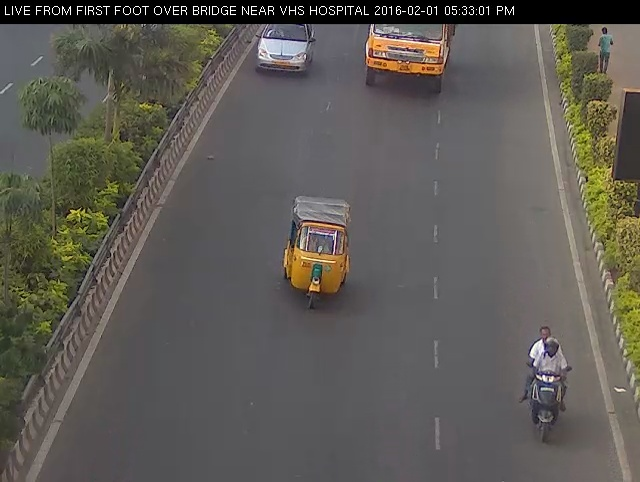Bus: (354, 16, 467, 97)
Car: (271, 186, 361, 323), (244, 19, 327, 86)
Person: (514, 321, 577, 452)
